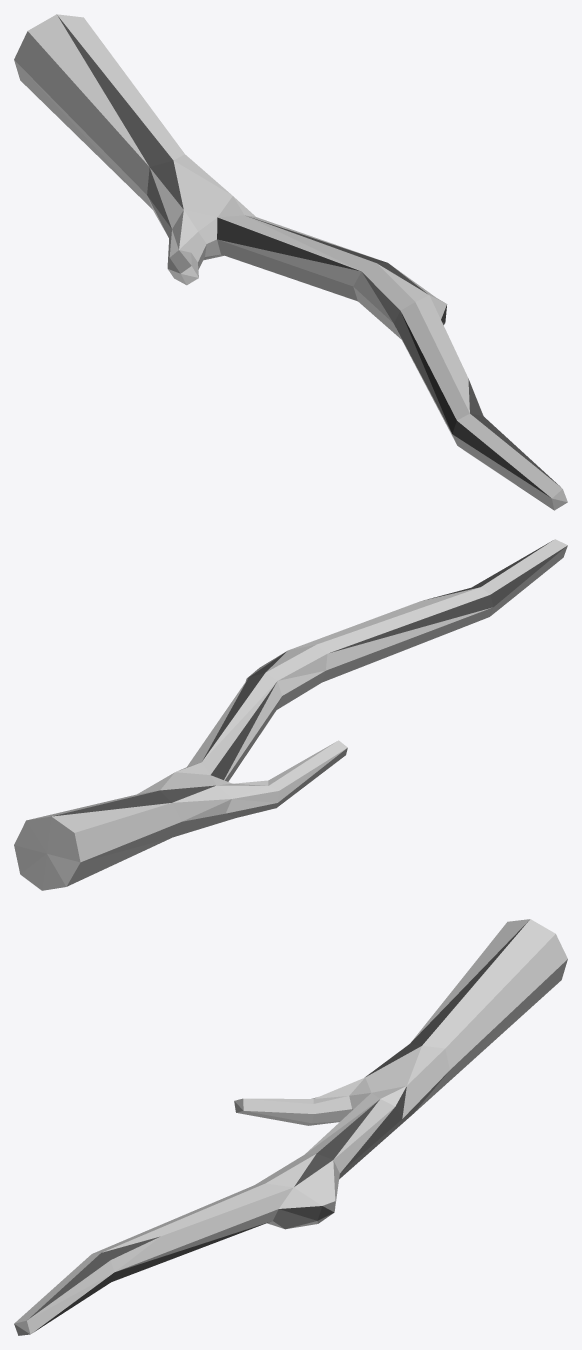
File: mesh_branch_birch_02.fbx
3 views of the same model, one above another, from view 1: azimuth 30°, elevation 25°; view 2: azimuth 150°, elevation 25°; view 3: azimuth 330°, elevation 25° (orthographic). The views are drawn at different scales.
Parts seen in each view (by area): view 1: mesh_branch_birch_02; view 2: mesh_branch_birch_02; view 3: mesh_branch_birch_02.
Part boxes in pixels (<box>): mesh_branch_birch_02: <box>14,14,567,510</box>; mesh_branch_birch_02: <box>14,539,567,890</box>; mesh_branch_birch_02: <box>14,919,567,1335</box>.
Bounding box in the file's own units: 0.3573 × 0.2147 × 1.84.
